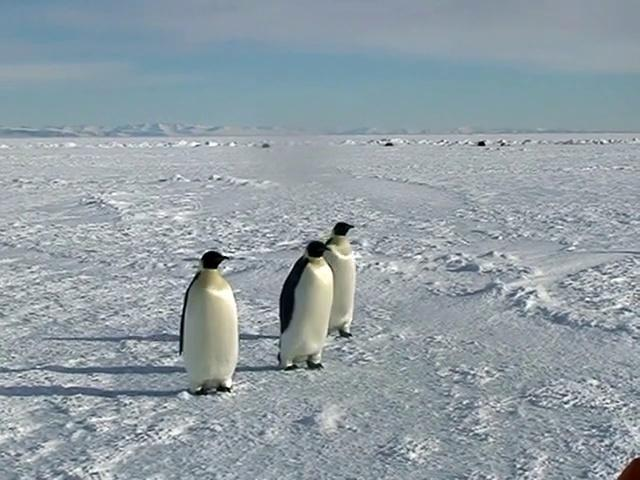animal: (325, 224, 357, 338)
